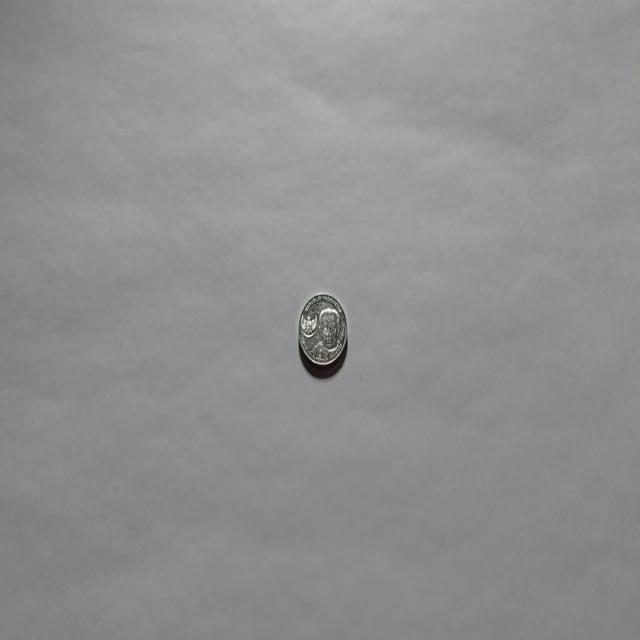seratus rupiah: (298, 292, 348, 376)
